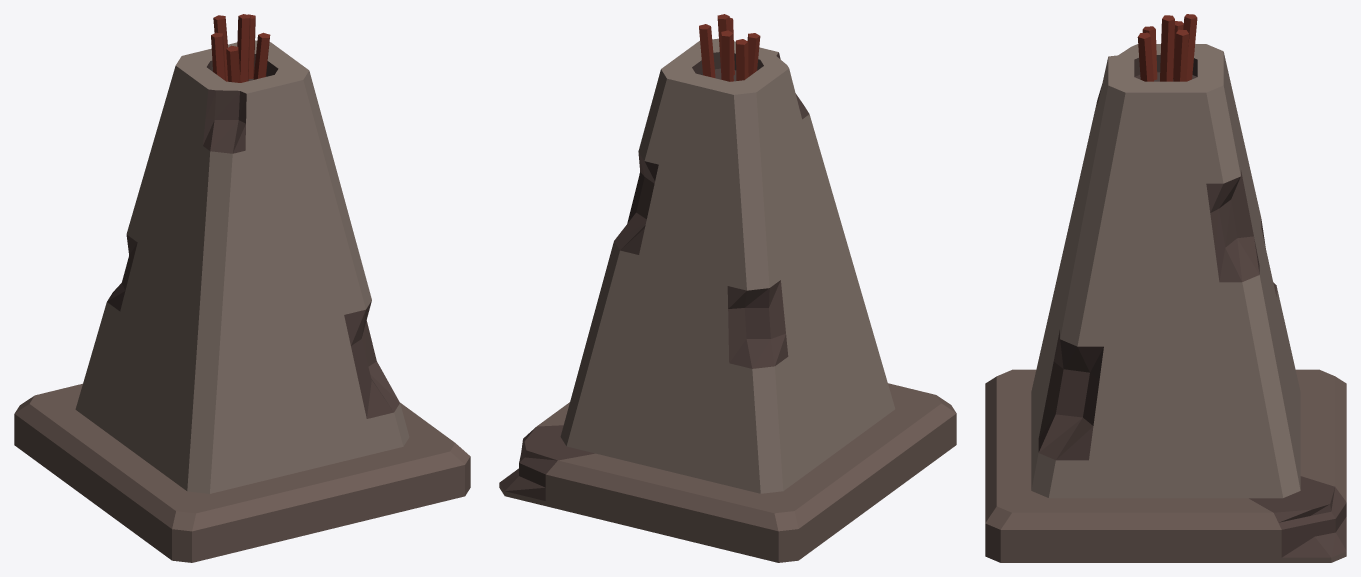
File: dragon-s-tooth-block-2f980d.glb
3 renders of one model, left to right at view 1: azimuth 30°, elevation 25°; view 2: azimuth 150°, elevation 25°; view 3: azimuth 270°, elevation 25°, orthographic. The views are drawn at different scales.
Parts seen in each view (by area): view 1: tooth; view 2: tooth; view 3: tooth.
Boxes of the visible parts, box(x1,y1,x2,y2) form: tooth: box(14, 14, 470, 562); tooth: box(499, 14, 956, 562); tooth: box(985, 14, 1346, 562).
Size of the model in its own units: 0.94 by 1.35 by 0.94.
